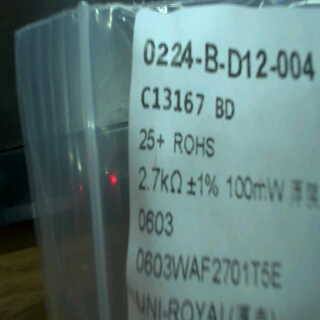2.7kR: (135, 162, 188, 197)
